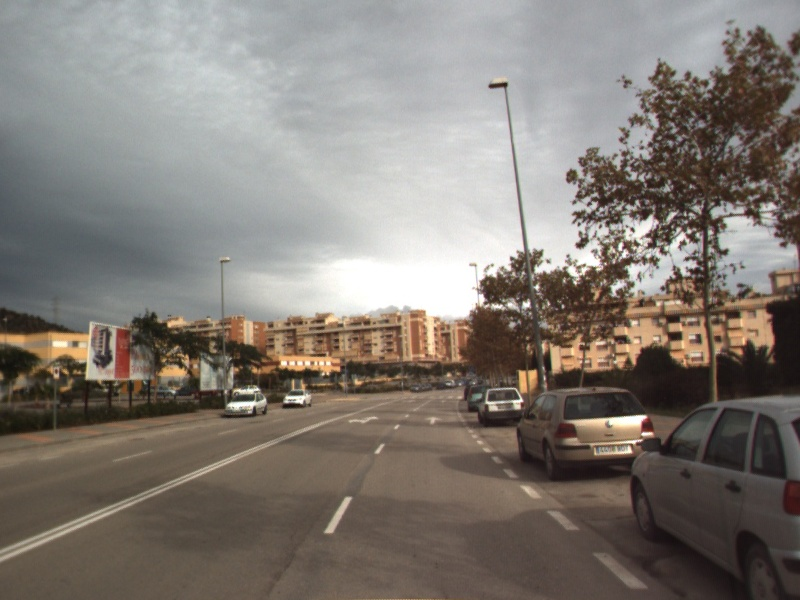STRAIGHT: (423, 414, 444, 427)
STRAIGHT_LEFT: (346, 413, 381, 426)
